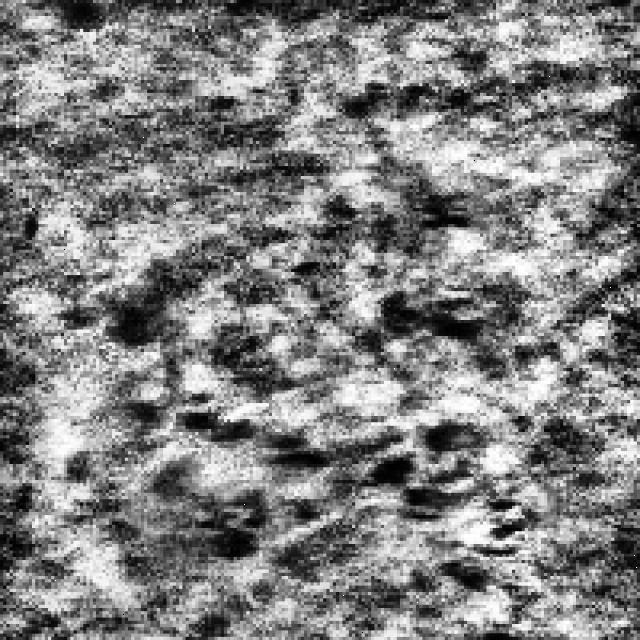Crazing: (86, 393, 528, 592), (304, 76, 474, 340)
